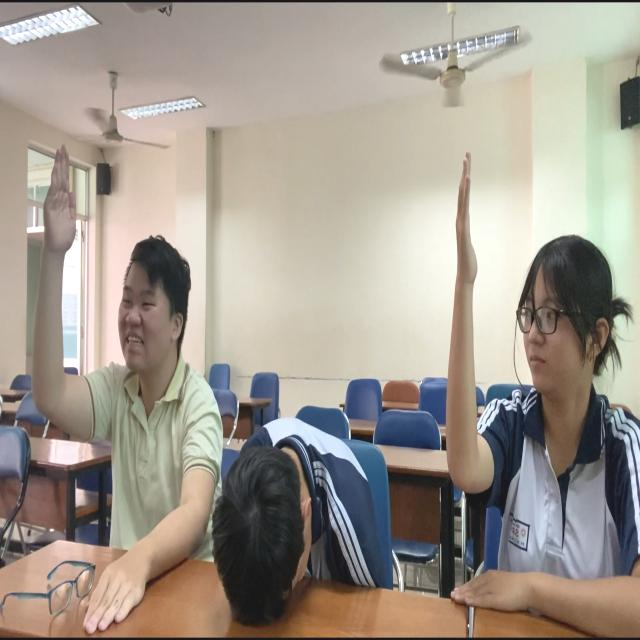raise_hand: (435, 150, 640, 640), (30, 141, 221, 595)
sleep: (209, 400, 391, 627)
